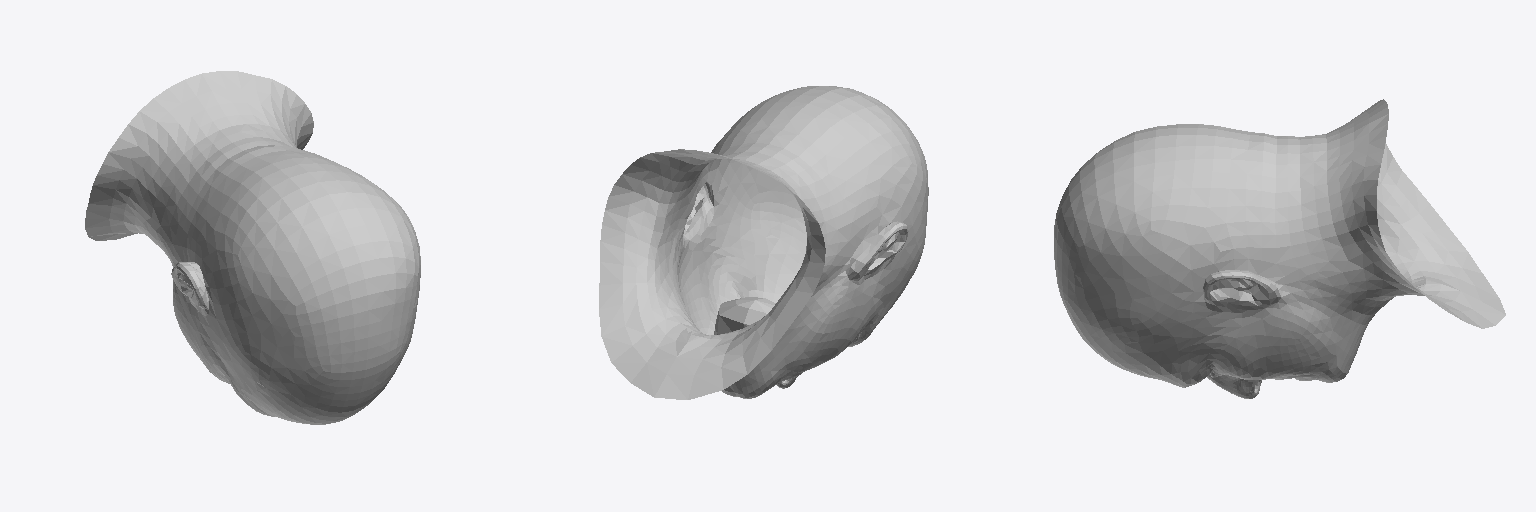
Rendered from head_000_r_0.obj.
3 views of the same model, side by side, from view 1: azimuth 30°, elevation 25°; view 2: azimuth 150°, elevation 25°; view 3: azimuth 270°, elevation 25° (orthographic).
Size of the model in its own units: 0.2032 by 0.2512 by 0.3616.